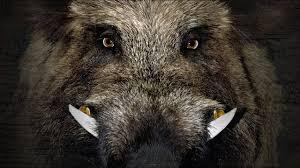wildboar: (5, 0, 285, 167)
